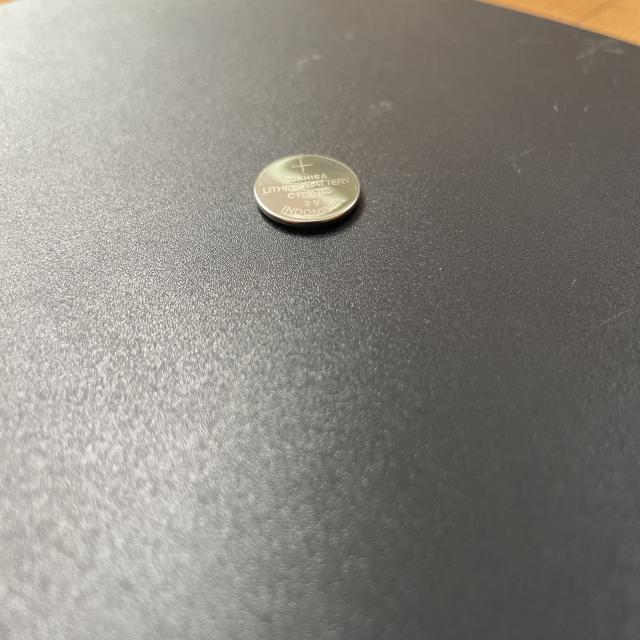COIN: (250, 150, 366, 236)
